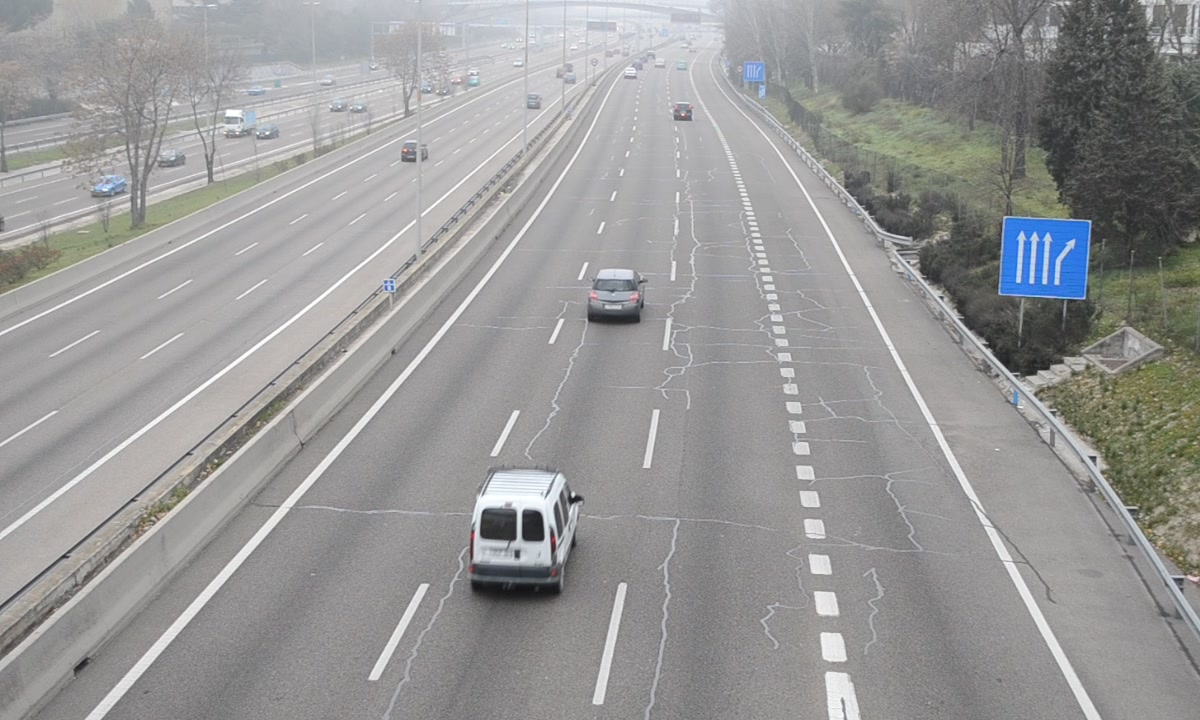car: (588, 267, 644, 321)
van: (468, 471, 578, 587)
